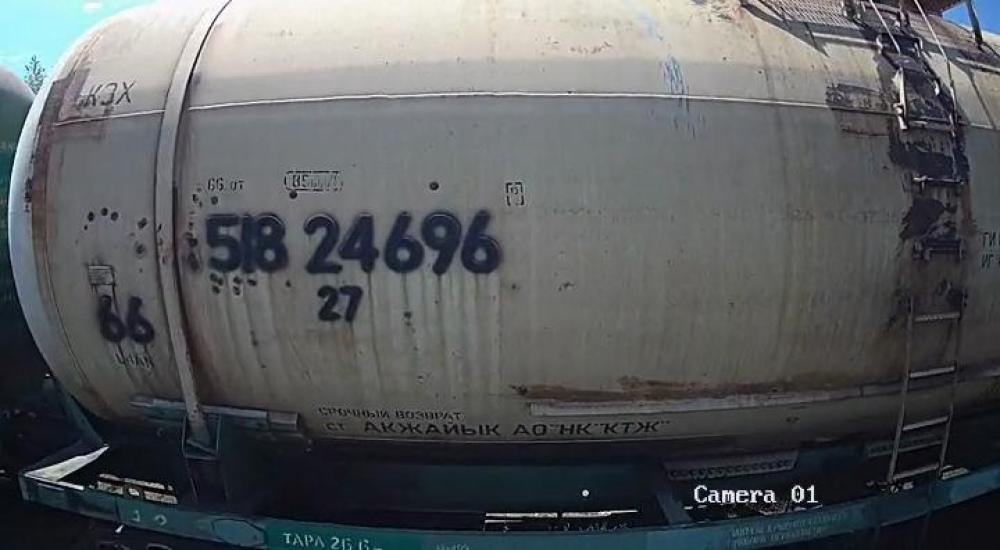Wagon-number: (198, 208, 508, 278)
